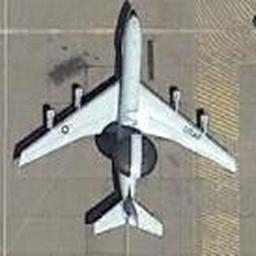Airplane: (20, 0, 232, 242)
